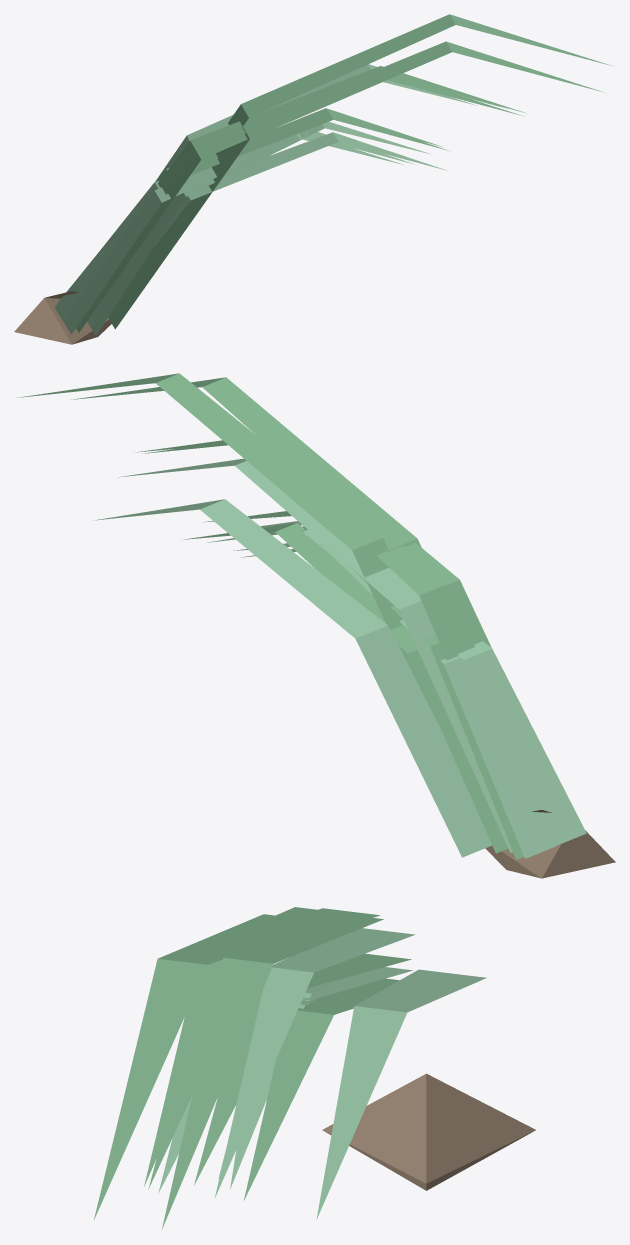
The model's file is shui.kucao@subadult__bloom.glb.
The picture shows the model from 3 angles, top to bottom: view 1: azimuth 30°, elevation 25°; view 2: azimuth 150°, elevation 25°; view 3: azimuth 270°, elevation 25°; orthographic projection. The views are drawn at different scales.
Visible parts, largest first — view 1: shui.kucao@subadult__bloom; view 2: shui.kucao@subadult__bloom; view 3: shui.kucao@subadult__bloom.
Boxes of the visible parts, x1,y1,x2,y2 form: shui.kucao@subadult__bloom: (14,14,611,344); shui.kucao@subadult__bloom: (17,373,615,878); shui.kucao@subadult__bloom: (94,907,535,1229).
Size of the model in its own units: 0.731 by 0.3594 by 0.2617.
